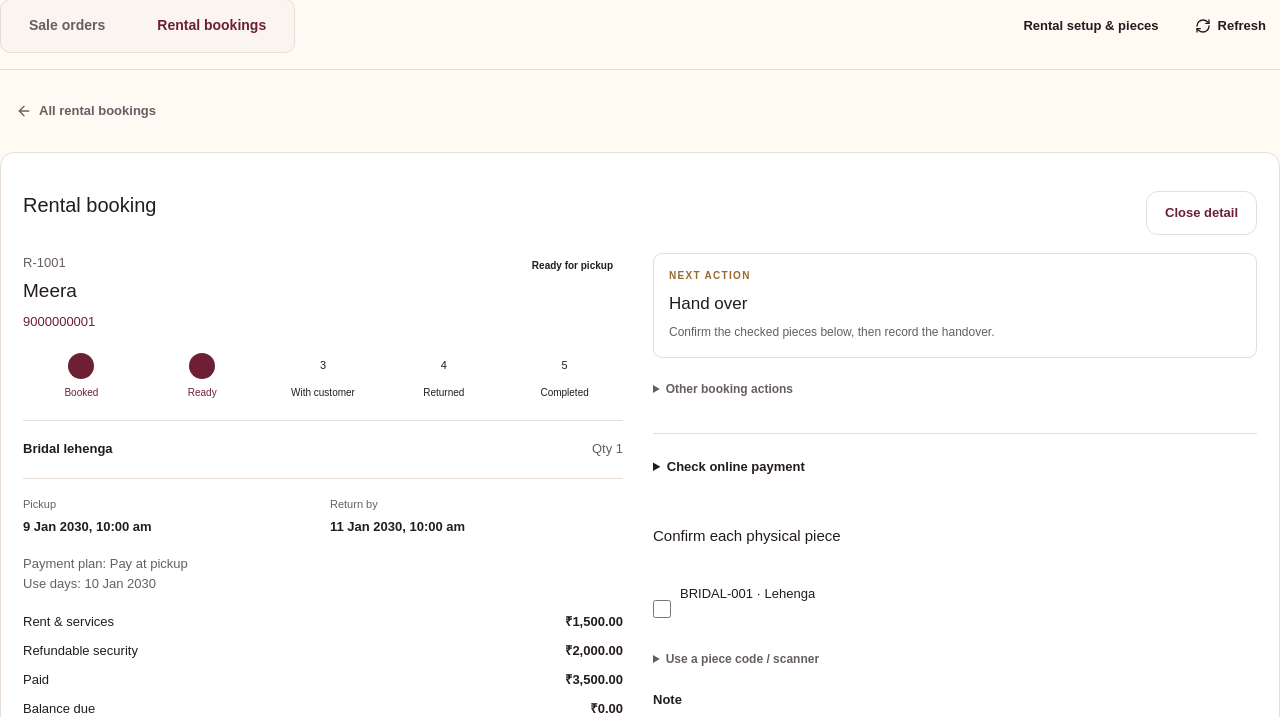
Test: handover waits for the actual piece checklist, then reuses the revision-protected rental operation
Click the checkbox labelled "BRIDAL-001 · Lehenga".
click(662, 609)  # box [653, 587, 671, 631]
(page scrolled)
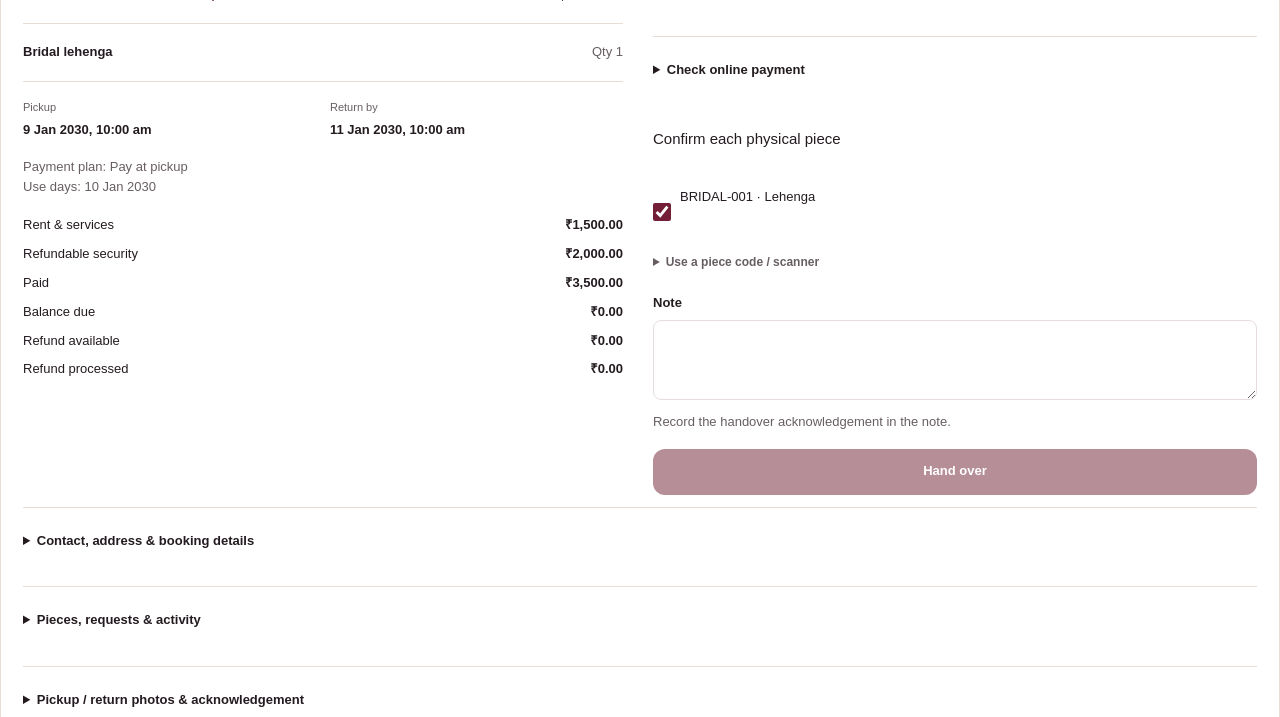
Type "Customer received the checked piece." into the text box labelled "Note".
click(955, 360); type("Customer received the checked piece.")  # box [653, 320, 1257, 400]
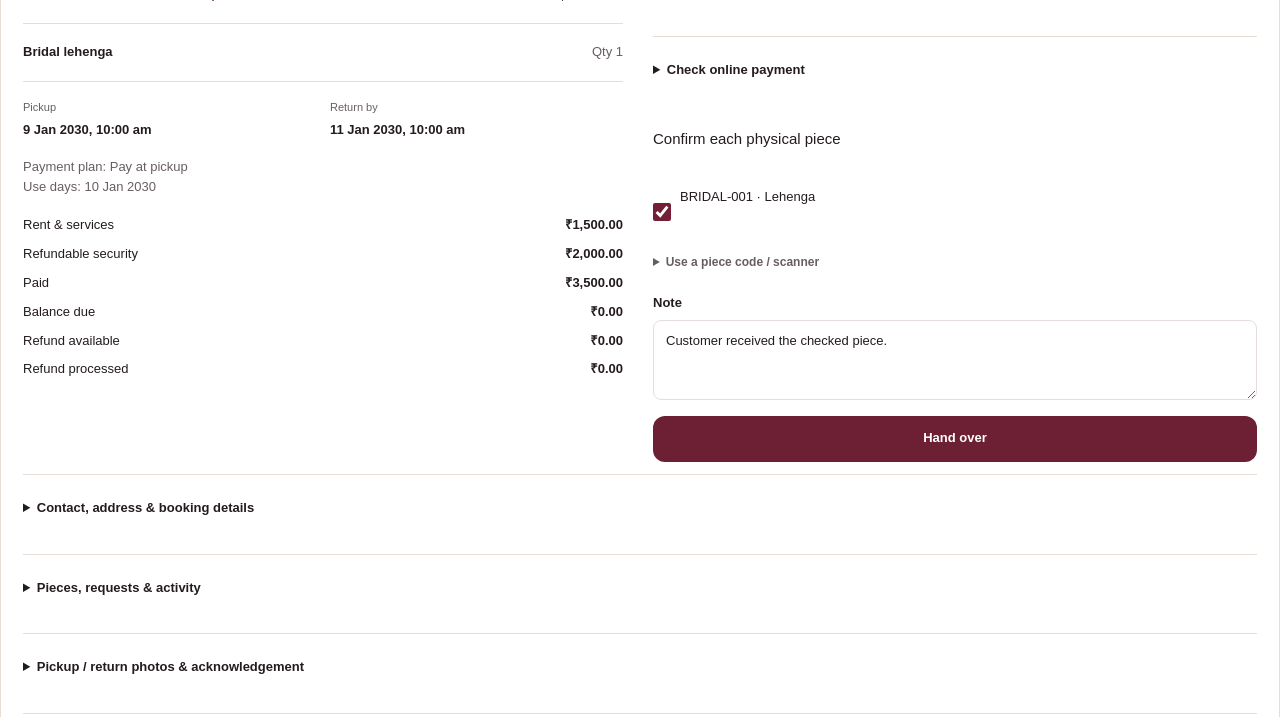
Click the button with class "rental-order-save".
click(955, 439)  # box [653, 416, 1257, 462]
(page scrolled)
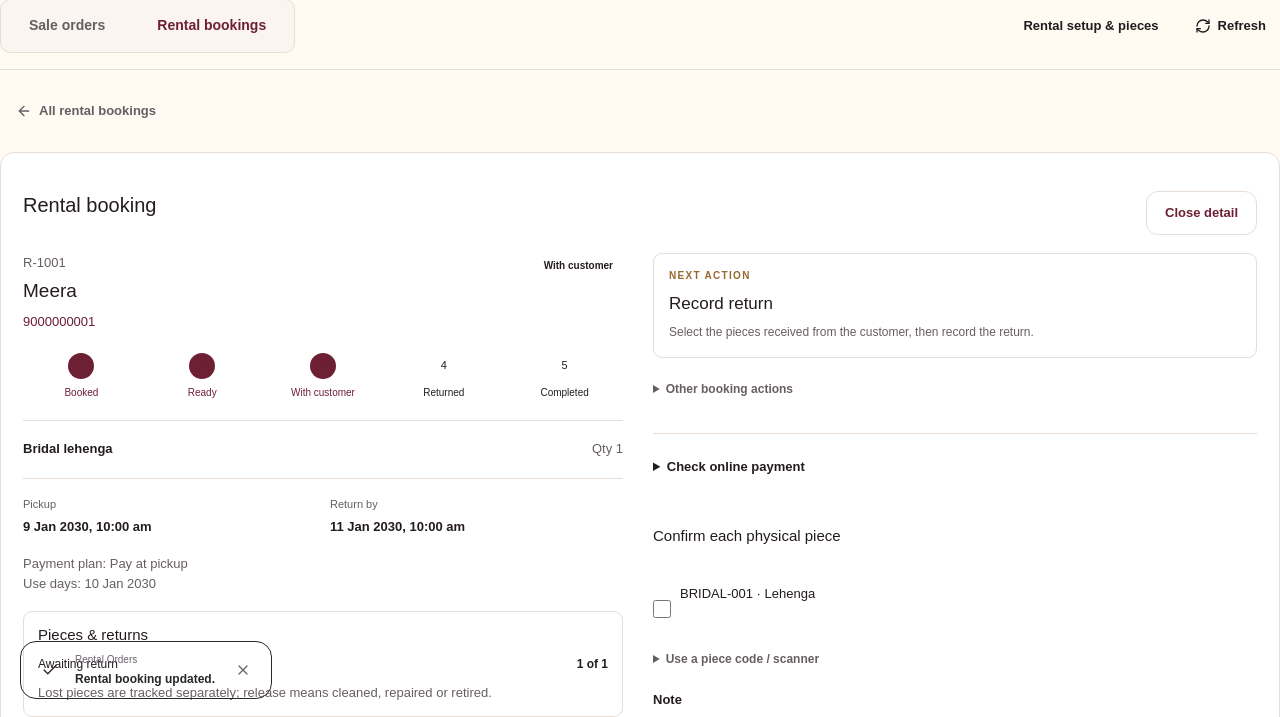
Result: the text "With customer" is shown at [544, 260, 613, 271]
